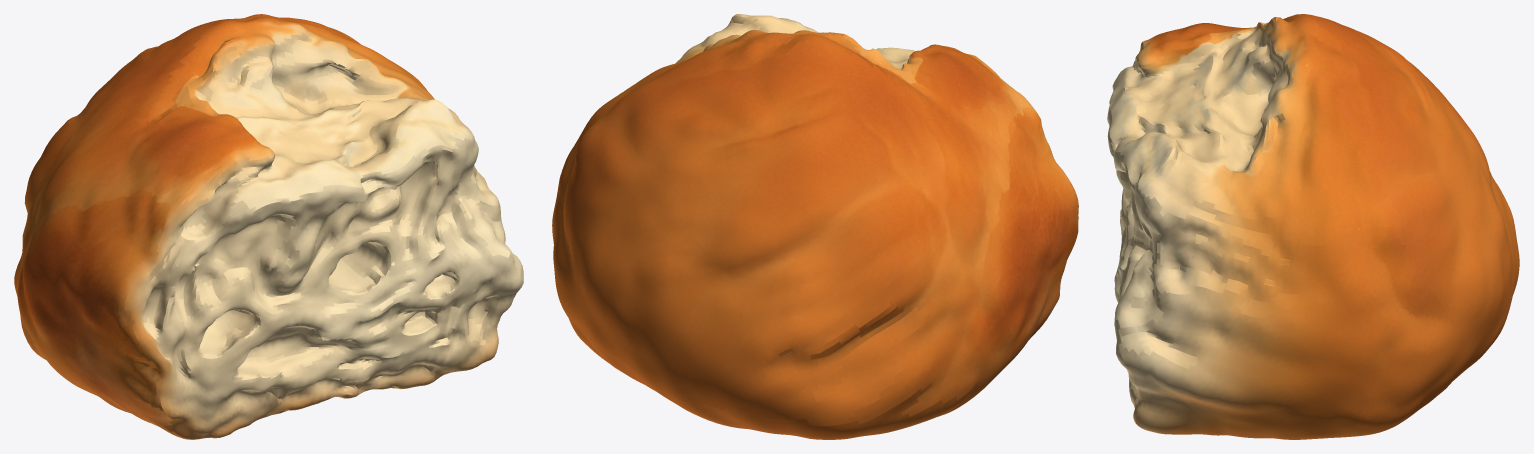
The model's file is crumb.glb.
The picture shows the model from 3 angles, left to right: view 1: azimuth 30°, elevation 25°; view 2: azimuth 150°, elevation 25°; view 3: azimuth 270°, elevation 25°; orthographic projection.
Parts seen in each view (by area): view 1: Mesh0; view 2: Mesh0; view 3: Mesh0.
Part boxes in pixels (x1,y1,x2,y2): Mesh0: [14, 14, 523, 439]; Mesh0: [552, 14, 1078, 439]; Mesh0: [1107, 14, 1519, 439].
Bounding box in the file's own units: 1.9 × 1.44 × 1.57.
Materials: 1 (1 with a texture image).
